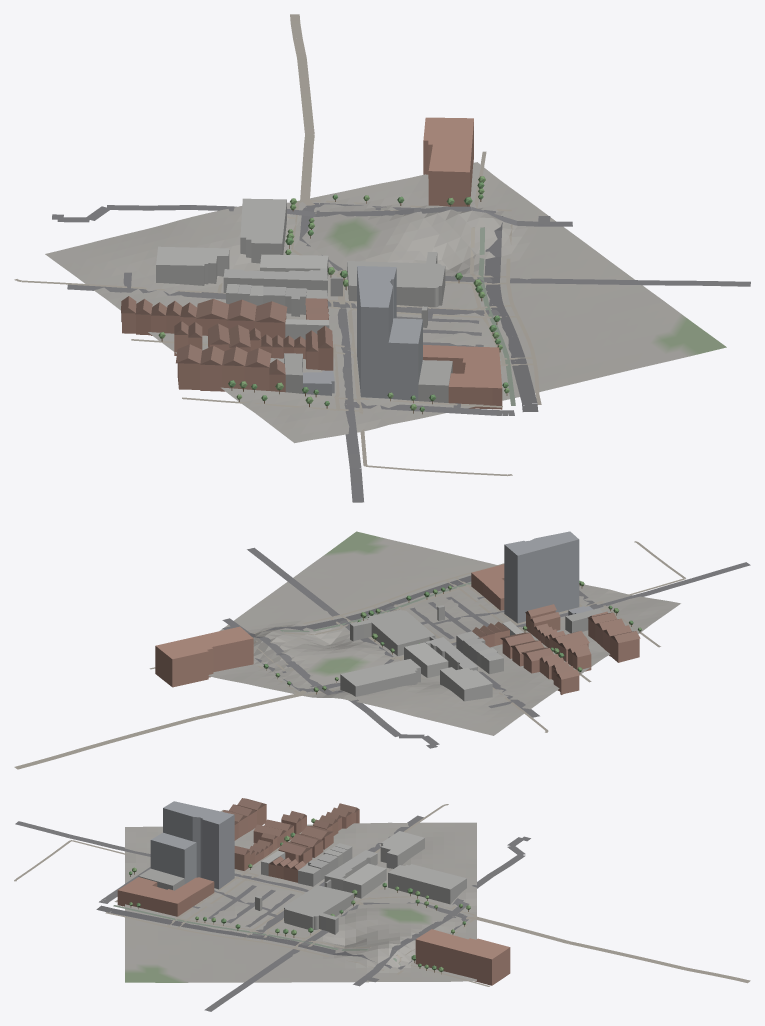
File: tile_-3_-1.glb
3 views of the same model, one above another, from view 1: azimuth 30°, elevation 25°; view 2: azimuth 150°, elevation 25°; view 3: azimuth 270°, elevation 25° (orthographic). The views are drawn at different scales.
Visible parts, largest first — view 1: terrain, buildings, roads, props; view 2: terrain, buildings, roads, props; view 3: terrain, buildings, roads, props.
Boxes of the visible parts, left/top/right/bottom form: terrain: left=45, top=162, right=726, bottom=443; buildings: left=121, top=117, right=502, bottom=409; roads: left=14, top=14, right=750, bottom=502; props: left=158, top=176, right=509, bottom=414; terrain: left=208, top=531, right=680, bottom=735; buildings: left=155, top=531, right=640, bottom=701; roads: left=14, top=541, right=750, bottom=769; props: left=263, top=580, right=641, bottom=694; terrain: left=125, top=822, right=476, bottom=982; buildings: left=117, top=798, right=510, bottom=985; roads: left=14, top=804, right=750, bottom=1011; props: left=129, top=818, right=470, bottom=974.
Bounding box in the file's own units: 336 × 58.09 × 536.
